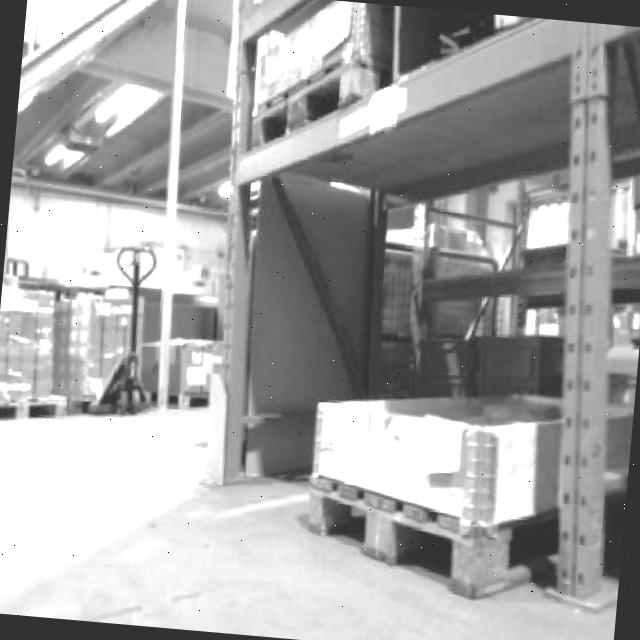ground: (0, 382, 631, 640)
pallet: (182, 0, 640, 611), (299, 371, 634, 610), (411, 213, 640, 354), (135, 331, 224, 410), (0, 380, 98, 439)
